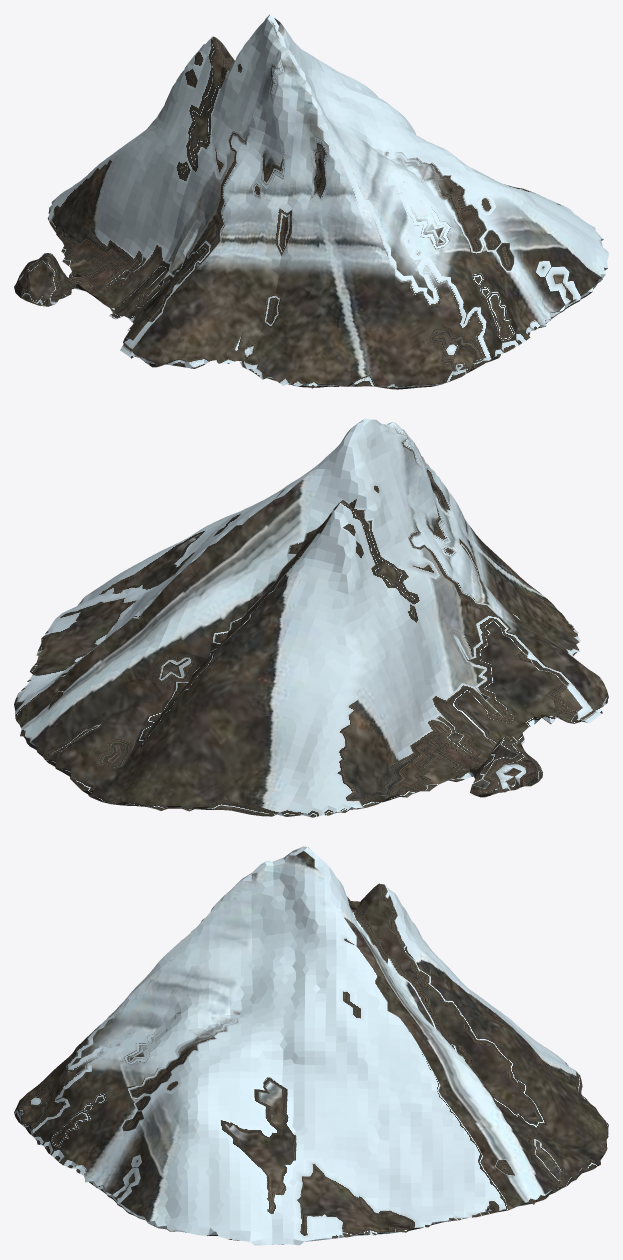
The model's file is HillMiddlePoly.fbx.
The picture shows the model from 3 angles, top to bottom: view 1: azimuth 30°, elevation 25°; view 2: azimuth 150°, elevation 25°; view 3: azimuth 270°, elevation 25°; orthographic projection. The views are drawn at different scales.
Visible parts, largest first — view 1: HillMiddlePoly; view 2: HillMiddlePoly; view 3: HillMiddlePoly.
Boxes of the visible parts, box(x1,y1,x2,y2) form: HillMiddlePoly: box(14, 14, 608, 389); HillMiddlePoly: box(14, 418, 608, 817); HillMiddlePoly: box(14, 846, 608, 1245).
Size of the model in its own units: 161 by 85.79 by 170.
